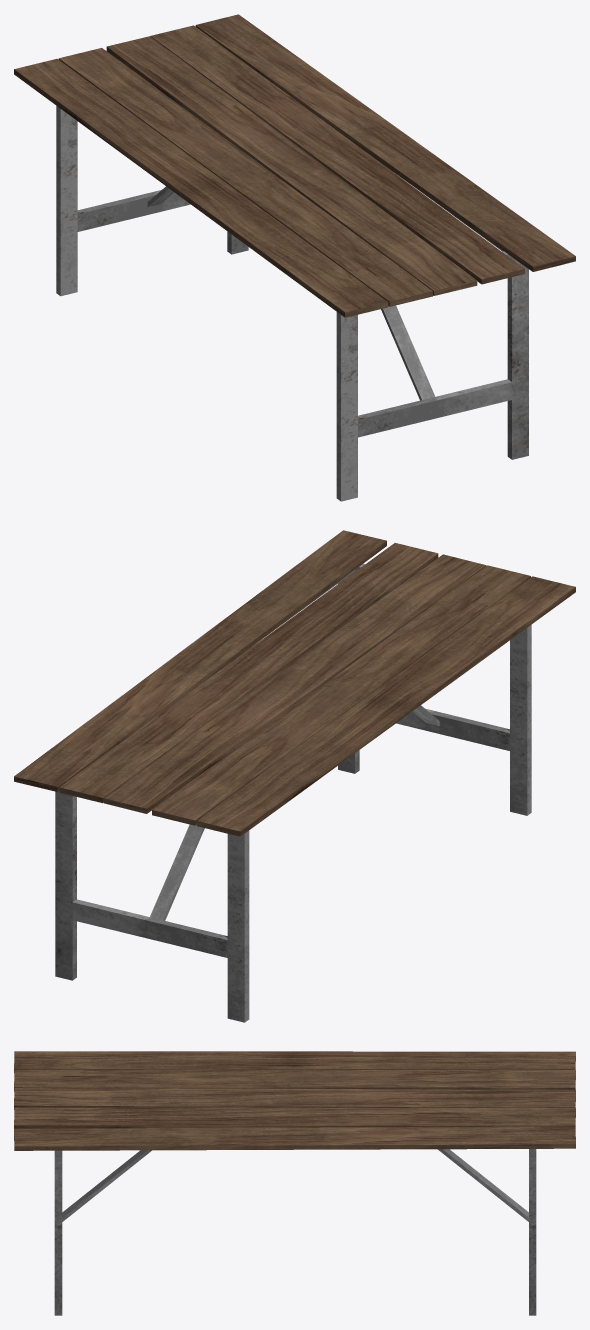
The model's file is Small Table.fbx.
3 renders of one model, top to bottom at view 1: azimuth 30°, elevation 25°; view 2: azimuth 150°, elevation 25°; view 3: azimuth 270°, elevation 25°, orthographic. The views are drawn at different scales.
Visible parts, largest first — view 1: Object_10.100; view 2: Object_10.100; view 3: Object_10.100.
Part boxes in pixels (x1,y1,x2,y2): Object_10.100: (14,14,575,501); Object_10.100: (14,530,575,1022); Object_10.100: (14,1051,575,1315).
Bounding box in the file's own units: 74.59 × 65.26 × 186.
Materials: 1 (1 with a texture image).
